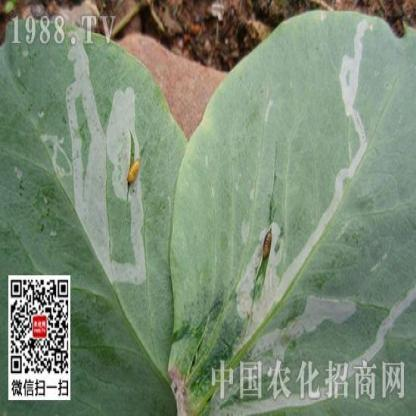whorl-maggot: (122, 149, 144, 197), (260, 222, 278, 261)
